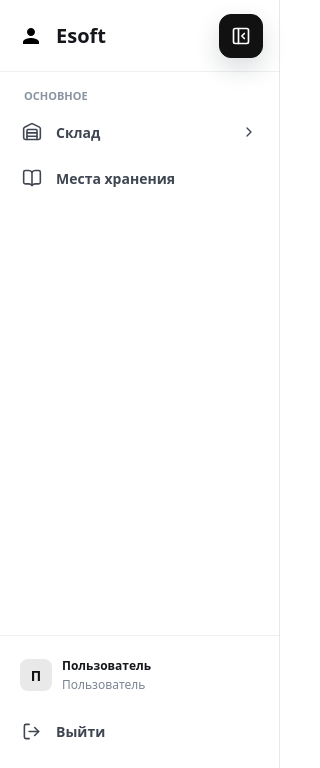
Sidebar › expands a collapsed sidebar to reveal the warehouse catalog
Click the button named "Свернуть меню": (241, 36) [219,14,263,58]
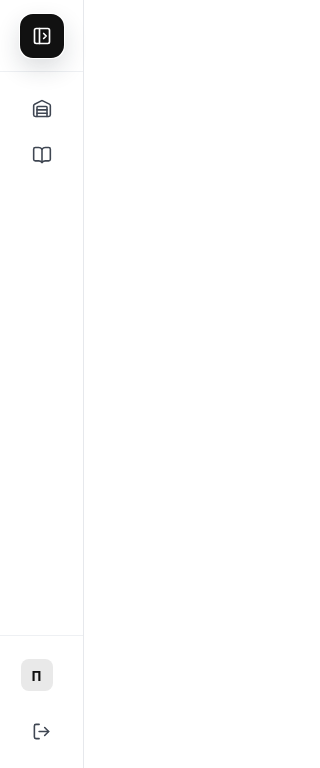
Click the button named "Склад": (42, 109) [12,88,71,130]
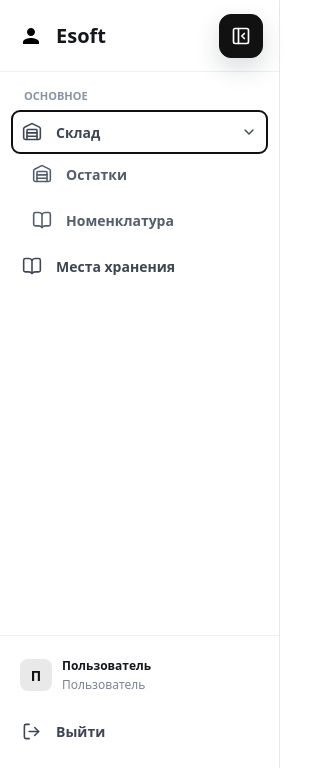
Result: the button named "Свернуть меню" is shown at [219,14,263,58]
Result: the button "Склад" is expanded at [12,111,267,153]
Result: the link "Номенклатура" is shown at [32,210,174,230]
